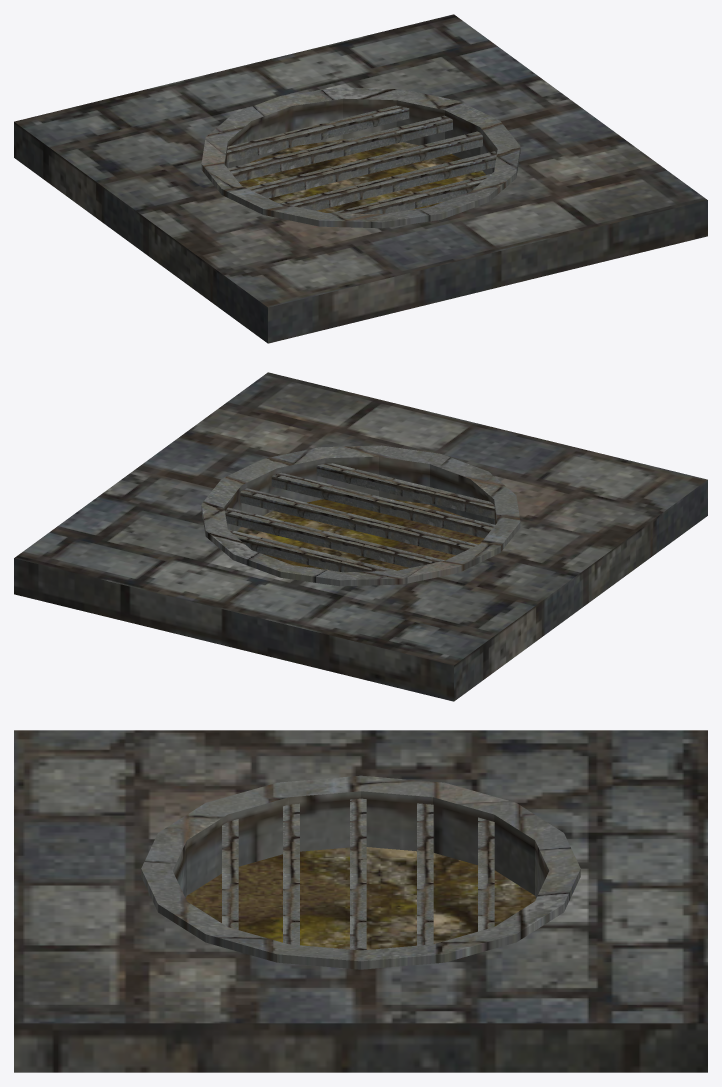
The model's file is Floor 2.fbx.
The picture shows the model from 3 angles, top to bottom: view 1: azimuth 30°, elevation 25°; view 2: azimuth 150°, elevation 25°; view 3: azimuth 270°, elevation 25°; orthographic projection. The views are drawn at different scales.
Parts seen in each view (by area): view 1: Floor 2; view 2: Floor 2; view 3: Floor 2.
Boxes of the visible parts, <box> form: Floor 2: <box>14,14,707,343</box>; Floor 2: <box>14,372,707,701</box>; Floor 2: <box>14,730,707,1072</box>.
Size of the model in its own units: 1082 by 99.07 by 1082.
1 material, 1 textured.
